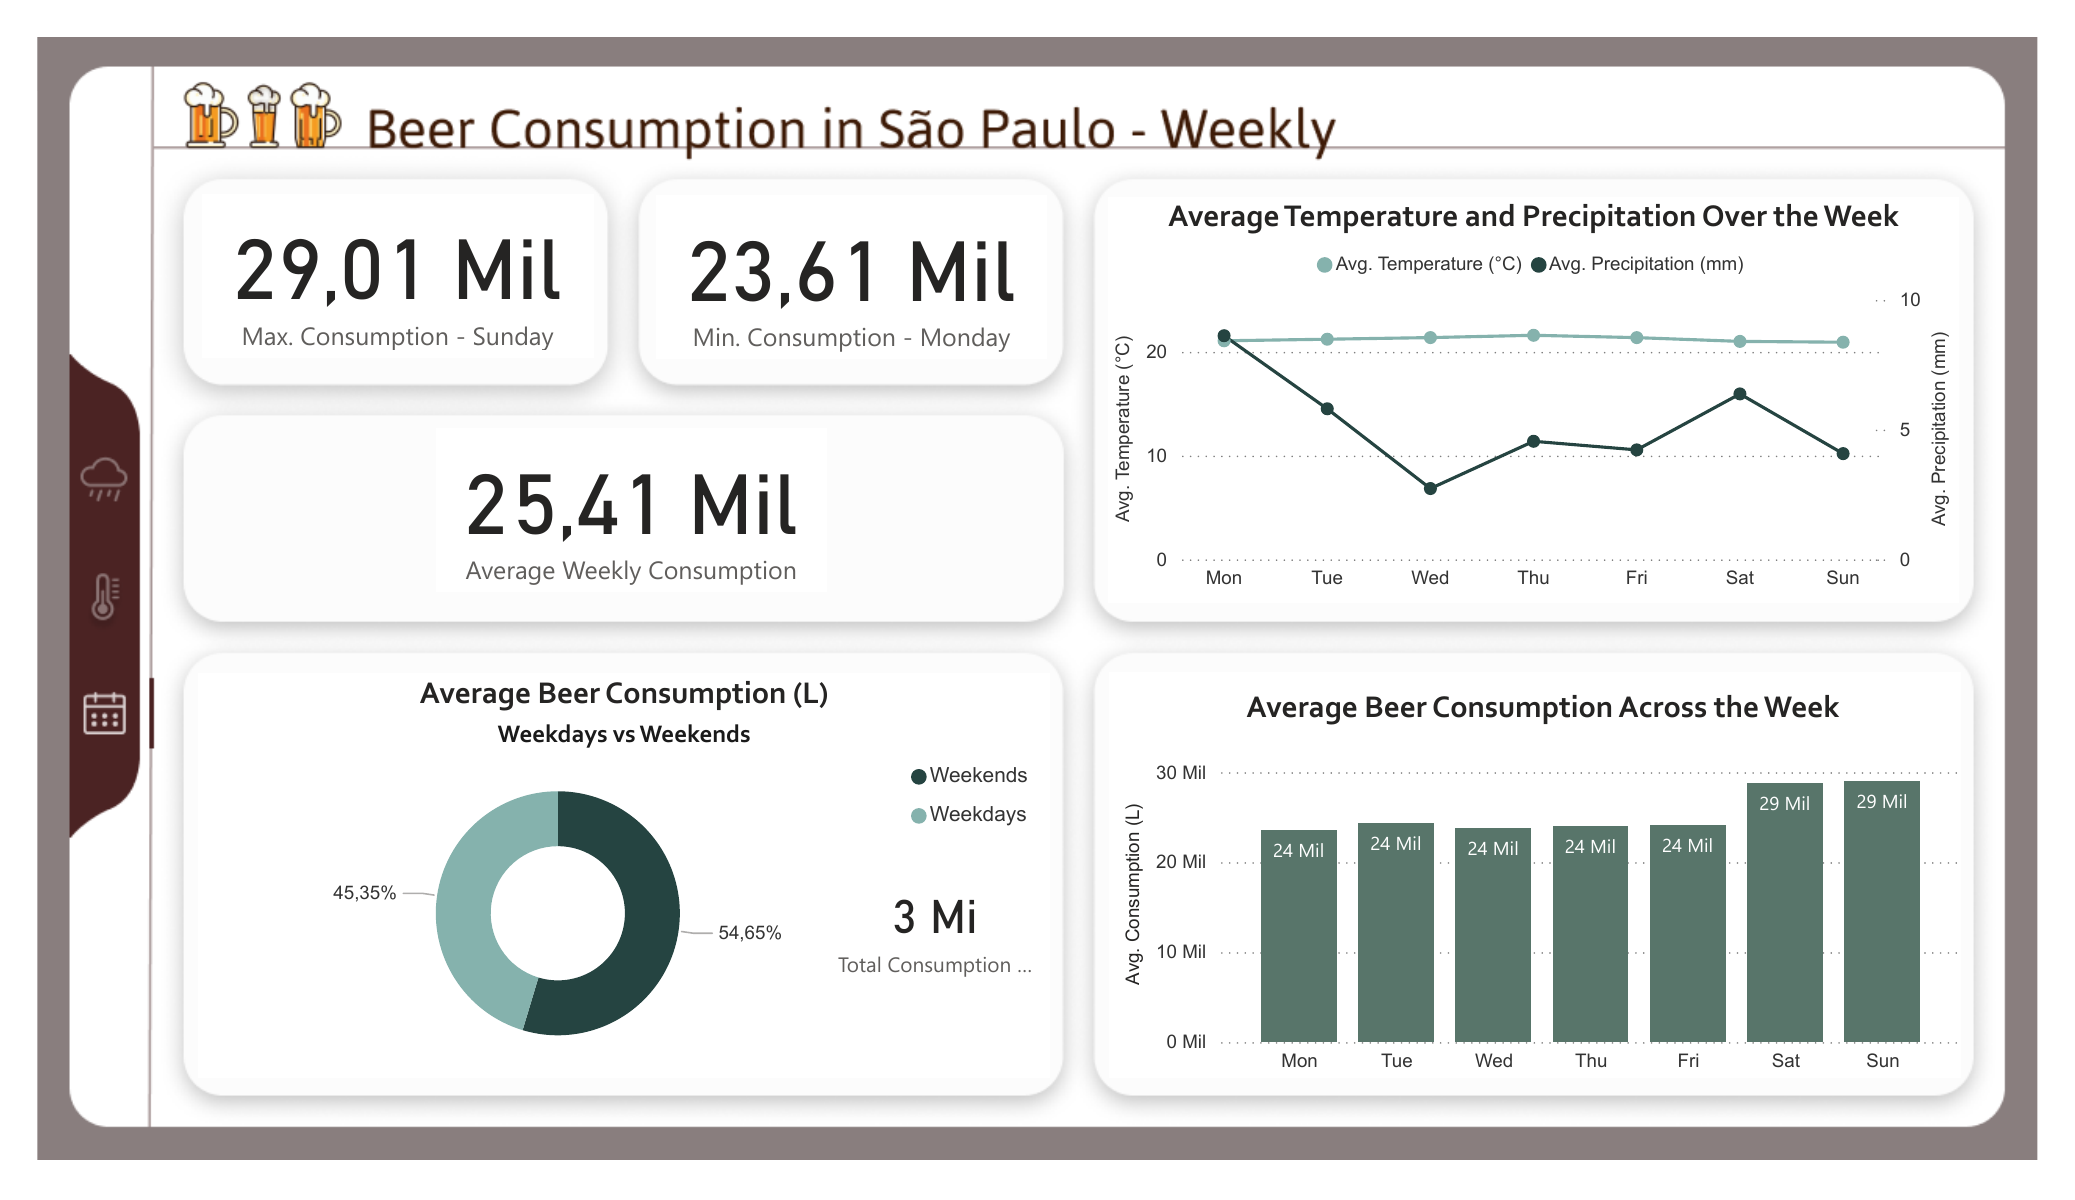

What the dashboard file says about the page in this screenshot:
{"tool":"powerbi","page":{"name":"Week","canvas":[1280,720],"ordinal":2},"visuals":[{"type":"card","fields":{"Values":["_Metrics.Avg_Consump_Week"]},"box":[254.6,250,250.2,105],"z":0},{"type":"card","fields":{"Values":["_Metrics.Min_Consump_Week"]},"box":[396,101,250.2,105],"z":1000},{"type":"card","fields":{"Values":["_Metrics.Max_Consump_Week"]},"box":[105.4,100,250.2,105],"z":2000},{"type":"donutChart","title":"Average Beer Consumption (L)","fields":{"Y":["Avg(SP - Consumo de Cerveja.Beer Consumption (L))"],"Category":["SP - Consumo de Cerveja.Day Type"]},"box":[102.7,406.5,545.3,259.9],"z":3000},{"type":"lineChart","title":"Average Temperature and Precipitation Over the Week","fields":{"Y":["Avg(SP - Consumo de Cerveja.Average Temperature (°C))"],"Category":["SP - Consumo de Cerveja.Day of the Week"],"Y2":["Avg(SP - Consumo de Cerveja.Precipitation (mm))"]},"box":[684.9,101.9,545.3,259.9],"z":4000},{"type":"clusteredColumnChart","title":"Average Beer Consumption Across the Week","fields":{"Category":["SP - Consumo de Cerveja.Day of the Week"],"Y":["Avg(SP - Consumo de Cerveja.Beer Consumption (L))"]},"box":[685.8,405.7,545.3,259.9],"z":5000},{"type":"card","fields":{"Values":["Sum(SP - Consumo de Cerveja.Beer Consumption (L))"]},"box":[511.6,505.8,125.5,126.4],"z":6000},{"type":"actionButton","box":[21.1,262.5,44.8,40.4],"z":7000},{"type":"actionButton","box":[21.1,338,44.8,40.4],"z":8000}]}

Visuals, with their boxes on the page's 1280x720 design canvas (x1, y1, x2, y2). These are canvas units, not pixel positions in the 2075x1200 screenshot, which may show the page scaled, cropped or inside an application window:
card - _Metrics.Avg_Consump_Week: [left=255, top=250, right=505, bottom=355]
card - _Metrics.Min_Consump_Week: [left=396, top=101, right=646, bottom=206]
card - _Metrics.Max_Consump_Week: [left=105, top=100, right=356, bottom=205]
"Average Beer Consumption (L)" donutChart: [left=103, top=406, right=648, bottom=666]
"Average Temperature and Precipitation Over the Week" lineChart: [left=685, top=102, right=1230, bottom=362]
"Average Beer Consumption Across the Week" clusteredColumnChart: [left=686, top=406, right=1231, bottom=666]
card - Sum(SP - Consumo de Cerveja.Beer Consumption (L)): [left=512, top=506, right=637, bottom=632]
actionButton: [left=21, top=262, right=66, bottom=303]
actionButton: [left=21, top=338, right=66, bottom=378]
